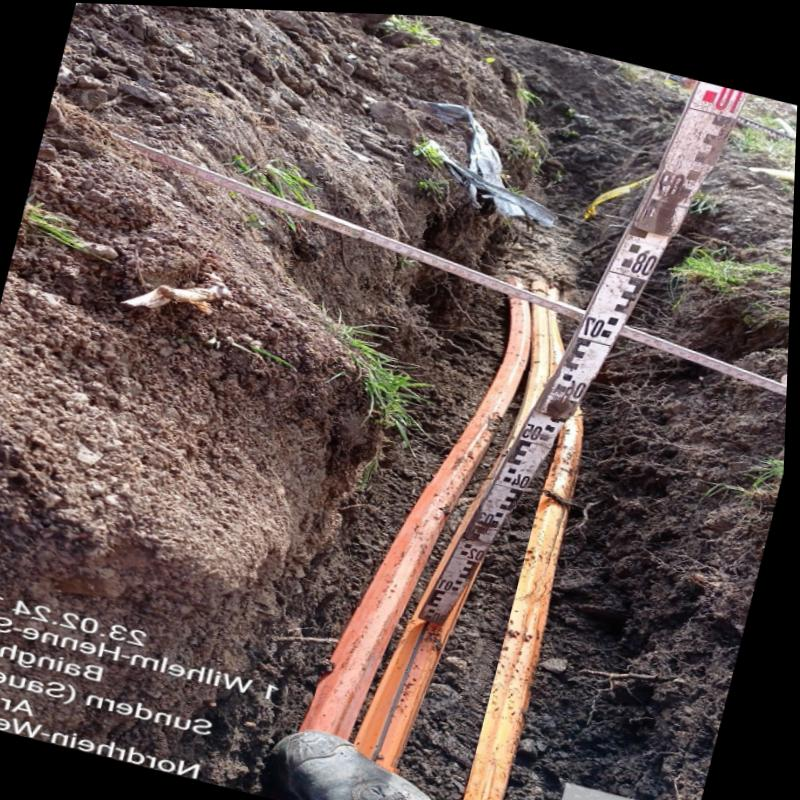Orang-Speednetrohrchen: (311, 293, 571, 763), (469, 405, 583, 800)
